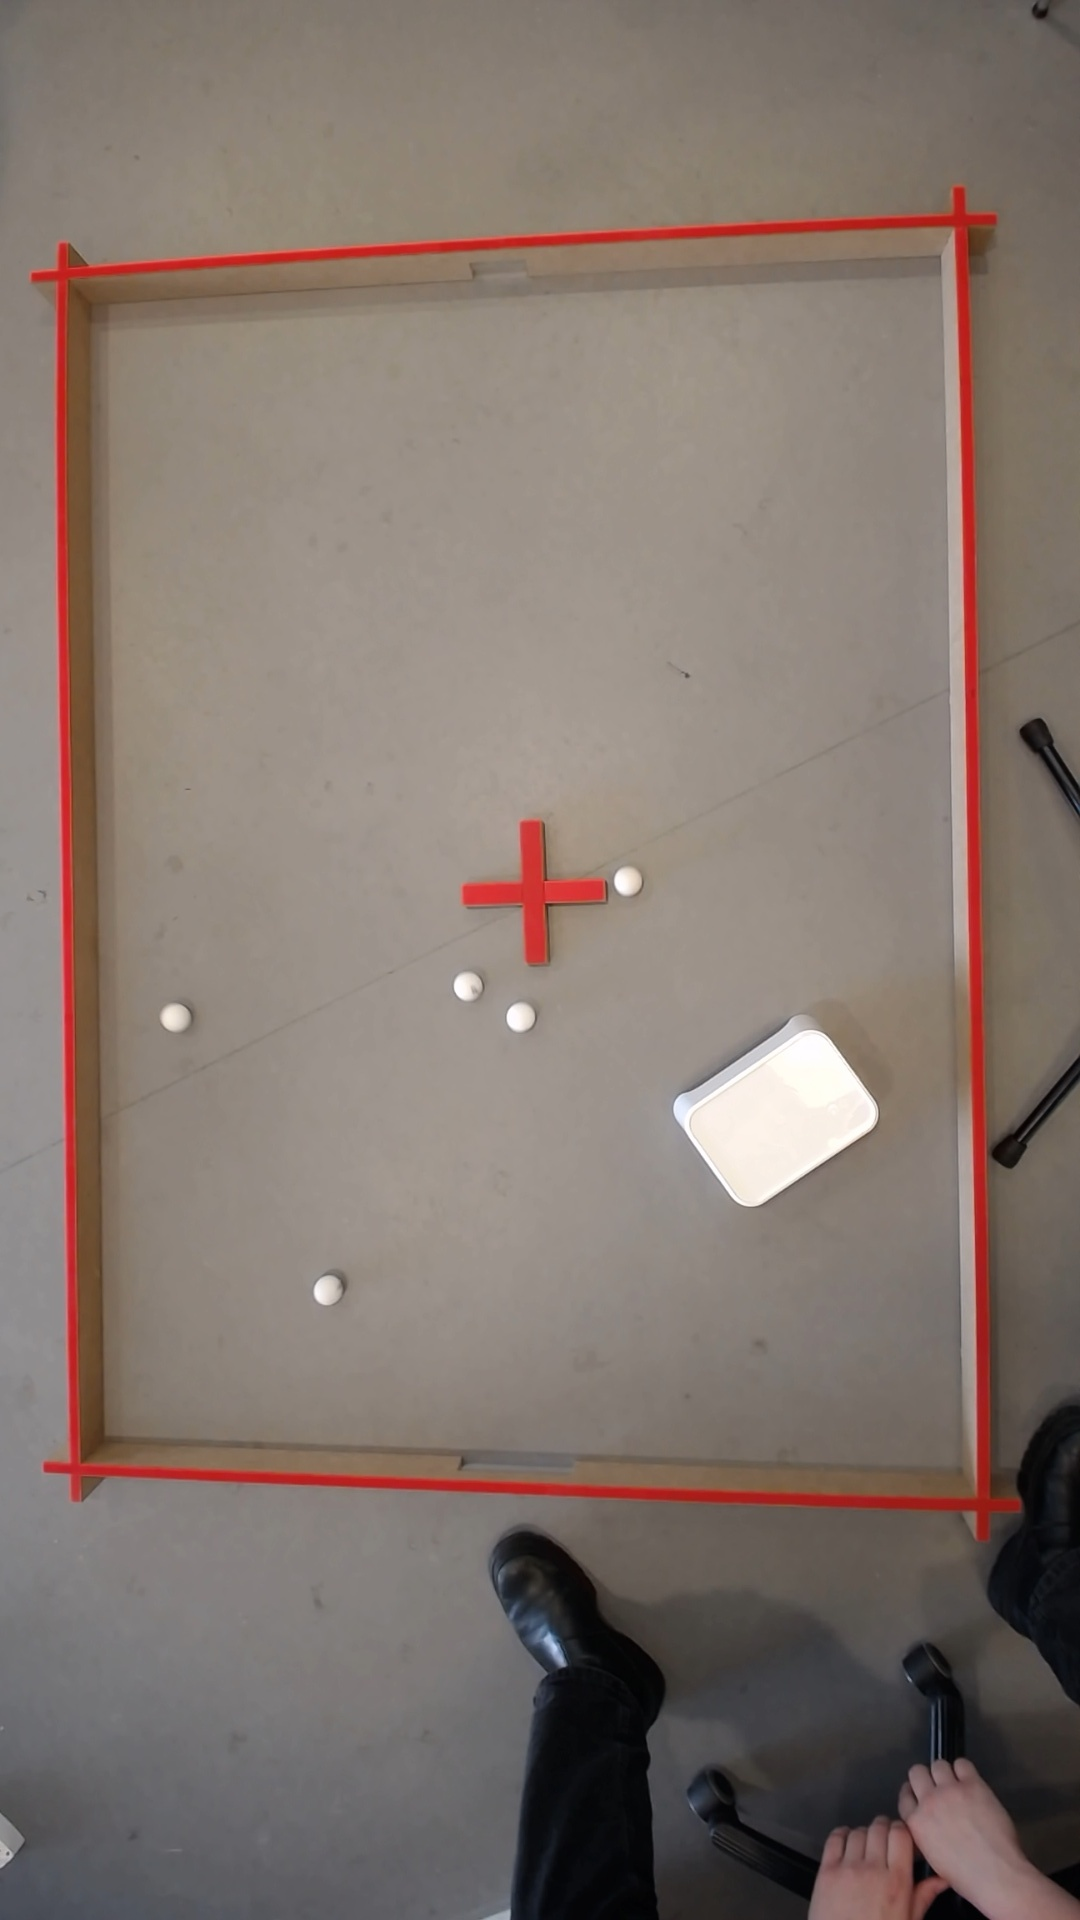balls: (665, 1006, 886, 1216), (500, 998, 537, 1034), (608, 862, 642, 898), (307, 1273, 339, 1307), (448, 969, 479, 1002)
car: (156, 1001, 187, 1033)
